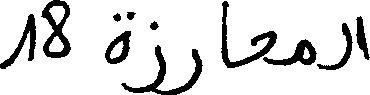X: (130, 7, 164, 94), (0, 9, 34, 73), (106, 7, 128, 94), (166, 44, 199, 94), (44, 0, 68, 62), (254, 26, 274, 69), (296, 34, 313, 69), (358, 11, 369, 64), (342, 18, 350, 71), (223, 0, 228, 72)
